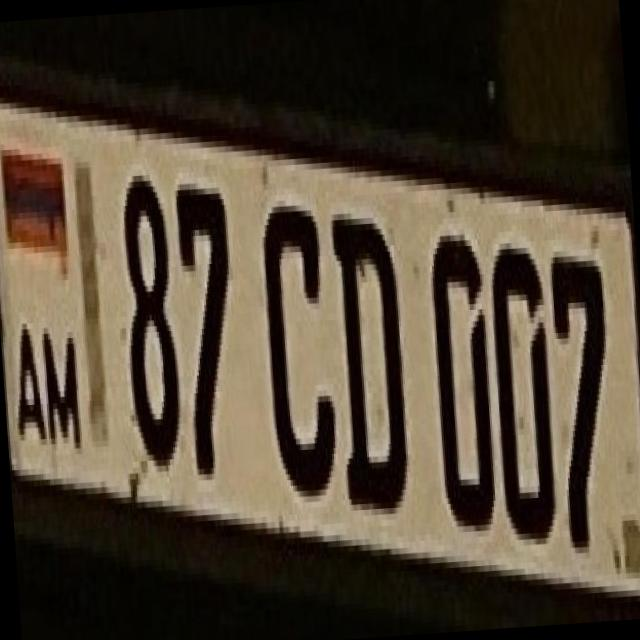0: (407, 209, 510, 540), (472, 217, 568, 535)
7: (154, 157, 252, 476), (534, 230, 630, 554)
8: (104, 155, 185, 462)
C: (245, 180, 347, 504)
D: (315, 186, 419, 512)
